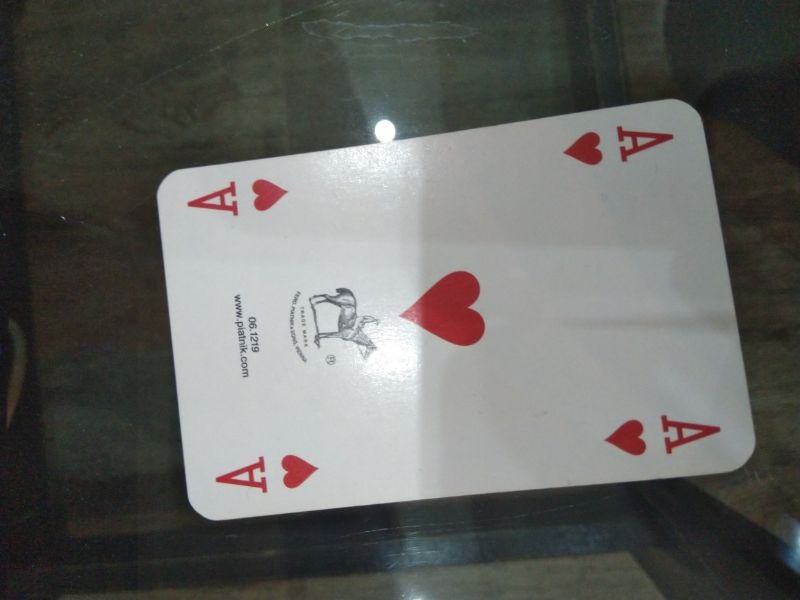Ah: (600, 409, 726, 459), (558, 121, 680, 168), (212, 450, 326, 497), (184, 175, 295, 220)
